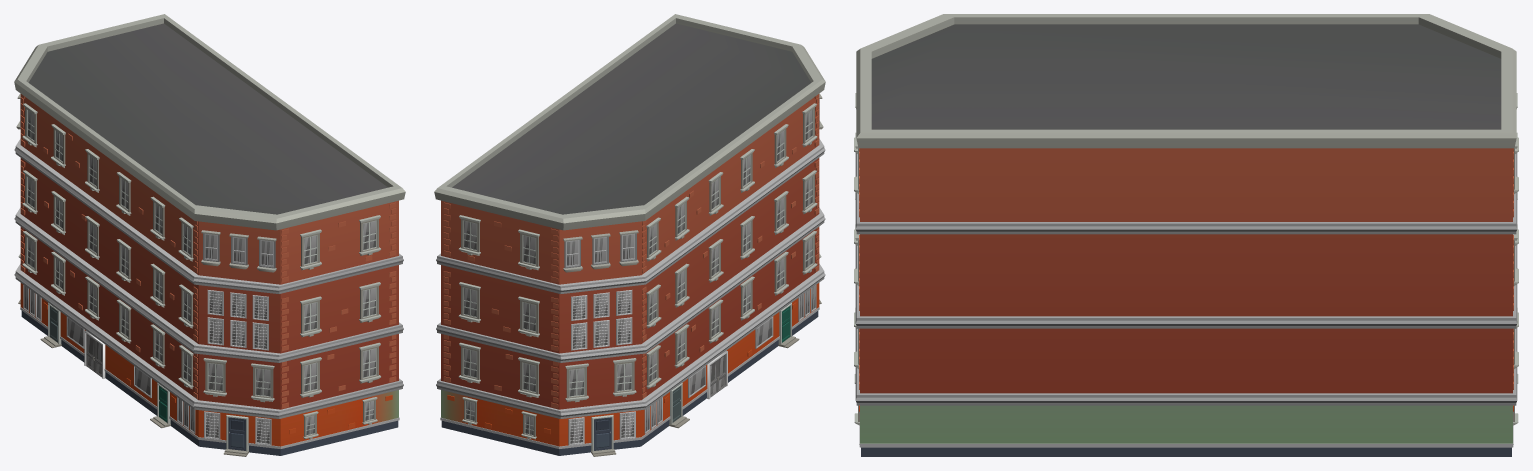
The model's file is Building_25_6_D.fbx.
The picture shows the model from 3 angles, left to right: view 1: azimuth 30°, elevation 25°; view 2: azimuth 150°, elevation 25°; view 3: azimuth 270°, elevation 25°; orthographic projection. The views are drawn at different scales.
Visible parts, largest first — view 1: Building_25_6_D; view 2: Building_25_6_D; view 3: Building_25_6_D.
Part boxes in pixels (box(x1,y1,x2,y2)): Building_25_6_D: box(14, 14, 405, 456); Building_25_6_D: box(434, 14, 825, 456); Building_25_6_D: box(854, 14, 1518, 456).
Size of the model in its own units: 1291 by 1596 by 2941.
